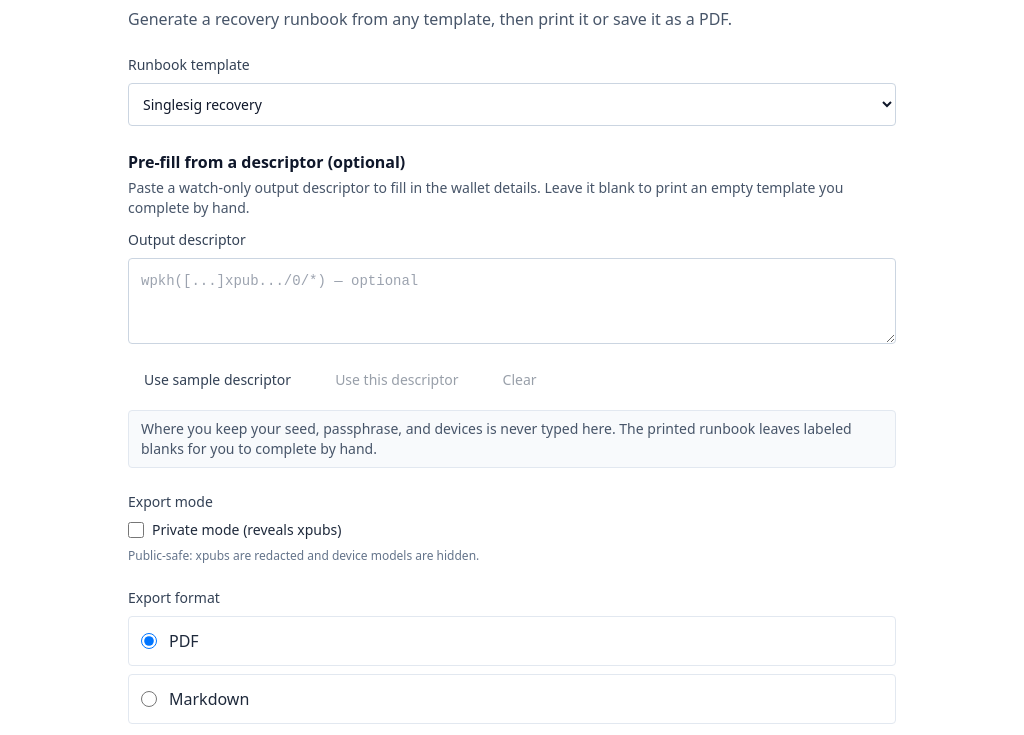
Test: Generate Runbook (US-052) › requires the §9.5 confirmation before exporting in private mode
// Flipping the toggle opens the §9.5 dialog with the verbatim xpub warning.
Click the checkbox labelled "Private mode (reveals xpubs)": {"x": 136, "y": 530} [128, 522, 144, 538]
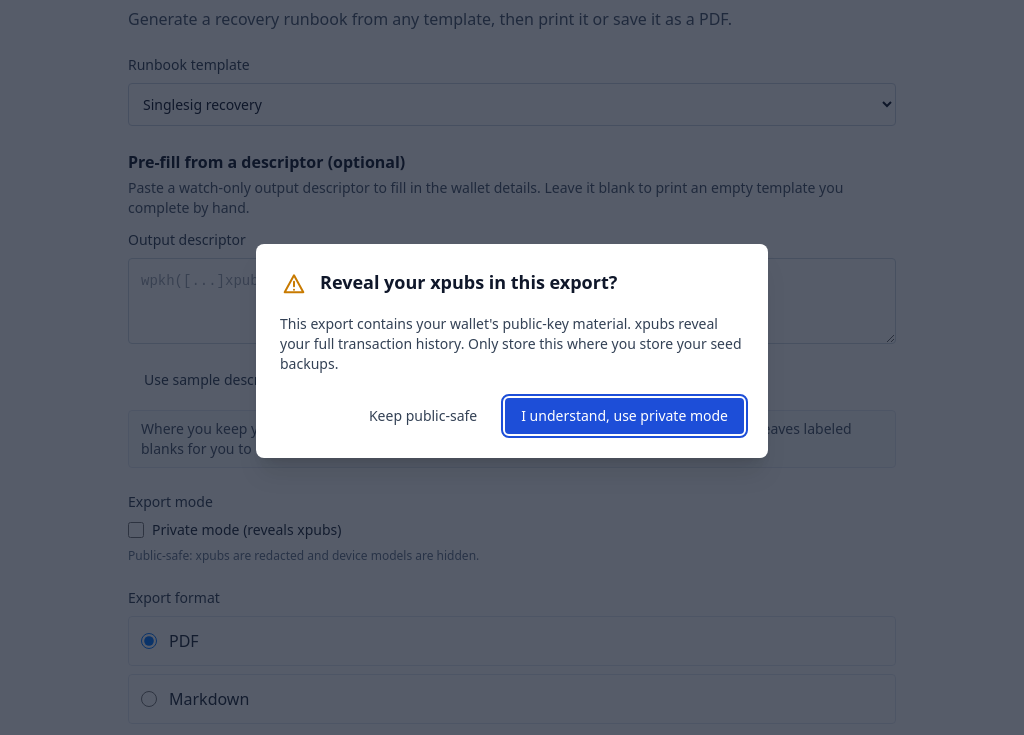
Expected: the text "This export contains your wallet's public-key material. xpubs reveal your full transaction history. Only store this wher" is shown, [280, 314, 742, 373]
Click the button "I understand, use private mode": {"x": 625, "y": 416} [505, 398, 744, 434]
(page scrolled)
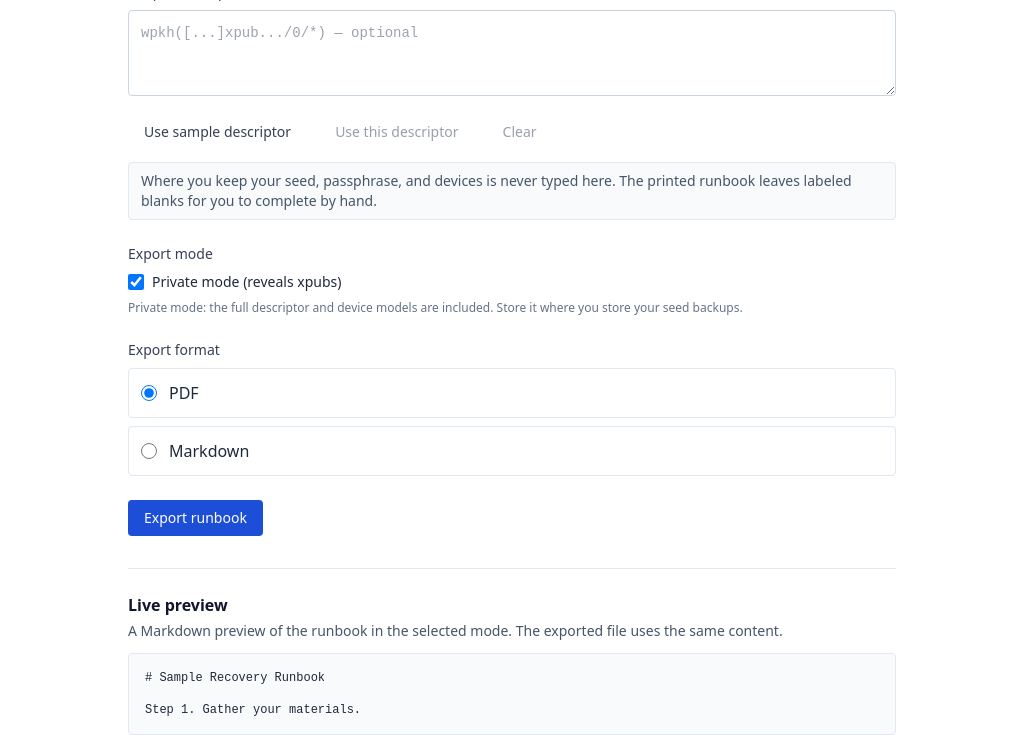
Expected: the dialog is gone
Click the button "Export runbook": {"x": 195, "y": 518} [128, 500, 263, 536]
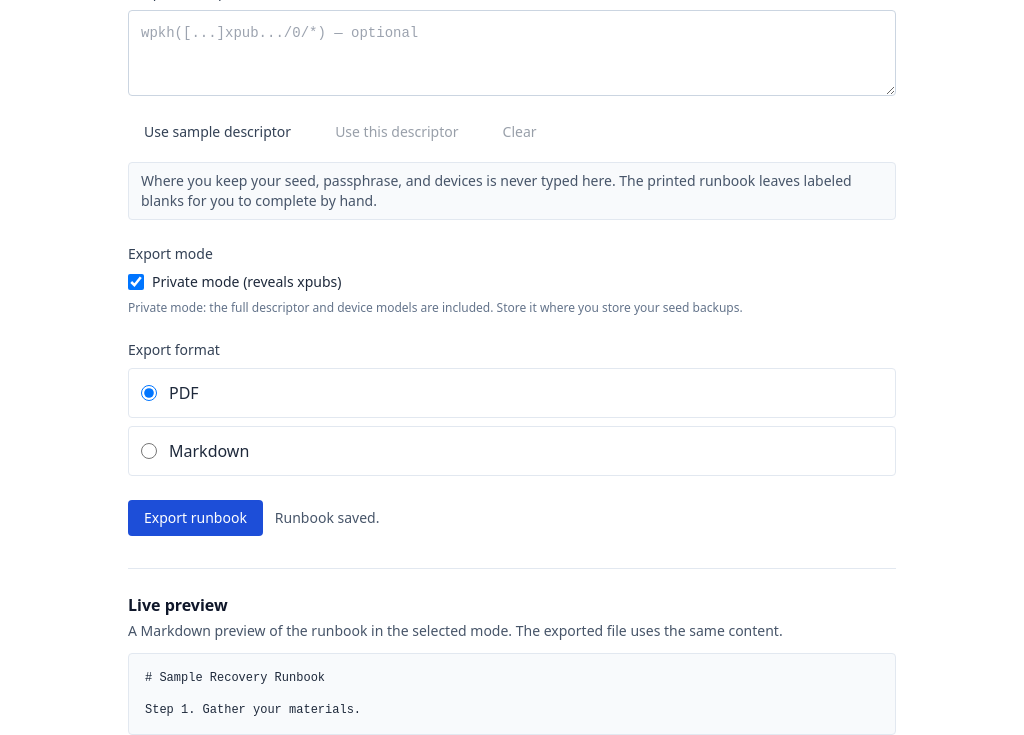
Expected: the text "Runbook saved." is shown, [275, 508, 380, 528]
